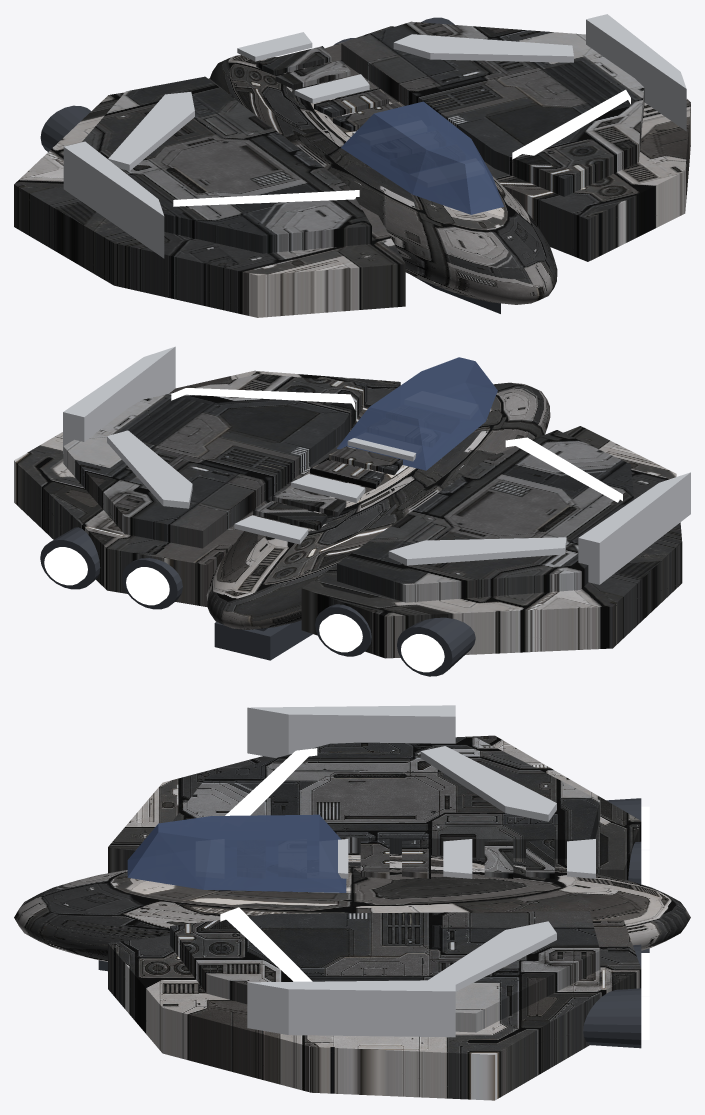
File: aur-crown-warden.glb
3 views of the same model, one above another, from view 1: azimuth 30°, elevation 25°; view 2: azimuth 150°, elevation 25°; view 3: azimuth 270°, elevation 25° (orthographic). The views are drawn at different scales.
Parts seen in each view (by area): view 1: hull_primary, armor_secondary, structure_light, canopy_glass, accent_energy, mechanical_gunmetal; view 2: armor_secondary, hull_primary, structure_light, canopy_glass, mechanical_gunmetal, engine_glow, accent_energy; view 3: hull_primary, armor_secondary, structure_light, canopy_glass, mechanical_gunmetal, accent_energy, engine_glow.
Part boxes in pixels (box(x1,y1,x2,y2)): hull_primary: box(14, 26, 690, 317); armor_secondary: box(82, 21, 644, 253); structure_light: box(63, 14, 686, 258); canopy_glass: box(341, 101, 504, 214); accent_energy: box(173, 89, 630, 206); mechanical_gunmetal: box(40, 17, 500, 313); armor_secondary: box(63, 373, 633, 602); hull_primary: box(14, 370, 682, 658); structure_light: box(63, 346, 690, 584); canopy_glass: box(336, 357, 497, 470); mechanical_gunmetal: box(40, 527, 475, 676); engine_glow: box(44, 547, 444, 672); accent_energy: box(171, 388, 622, 502); hull_primary: box(14, 735, 690, 1100); armor_secondary: box(170, 737, 600, 1032); structure_light: box(247, 705, 595, 1037); canopy_glass: box(127, 814, 346, 892); mechanical_gunmetal: box(98, 798, 649, 1048); accent_energy: box(220, 748, 317, 981); engine_glow: box(641, 806, 649, 1039).
Size of the model in its own units: 7.32 by 1.52 by 6.56.
Materials: 7 (2 with a texture image).
